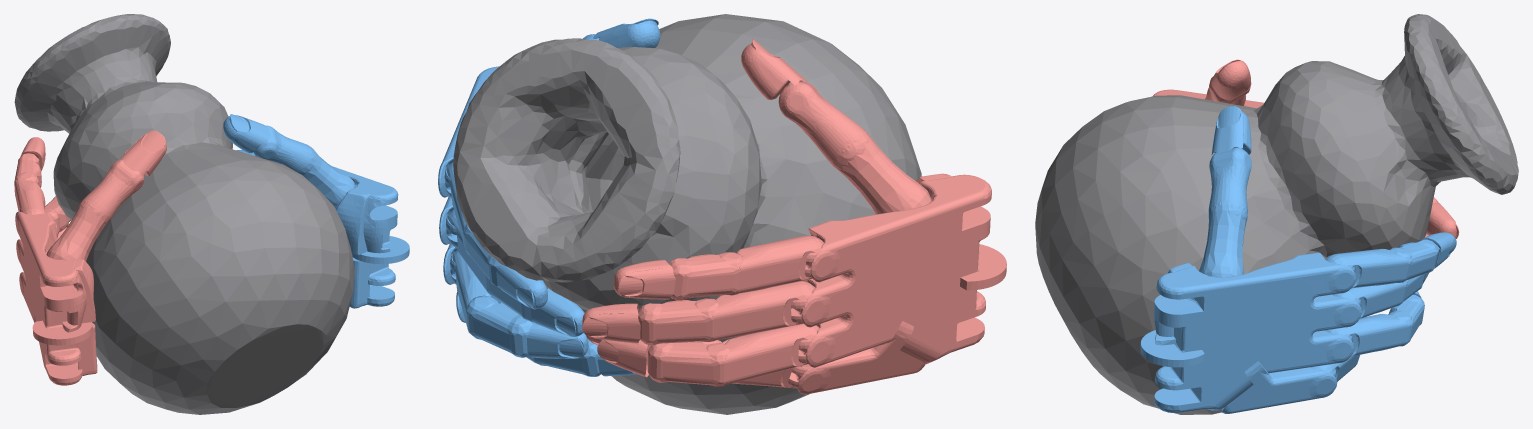
The picture shows the model from 3 angles, left to right: view 1: azimuth 30°, elevation 25°; view 2: azimuth 150°, elevation 25°; view 3: azimuth 270°, elevation 25°; orthographic projection. The views are drawn at different scales.
Parts seen in each view (by area): view 1: object_mesh, left_shadow_hand, right_shadow_hand; view 2: object_mesh, left_shadow_hand, right_shadow_hand; view 3: object_mesh, right_shadow_hand, left_shadow_hand.
Boxes of the visible parts, box(x1,y1,x2,y2) form: object_mesh: box(14, 14, 354, 414); left_shadow_hand: box(14, 130, 166, 385); right_shadow_hand: box(223, 114, 409, 308); object_mesh: box(453, 14, 921, 414); left_shadow_hand: box(582, 39, 1006, 394); right_shadow_hand: box(438, 18, 660, 376); object_mesh: box(1035, 14, 1518, 414); right_shadow_hand: box(1140, 106, 1456, 413); left_shadow_hand: box(1152, 59, 1459, 238).
Size of the model in its own units: 0.2794 by 0.2289 by 0.2696.
